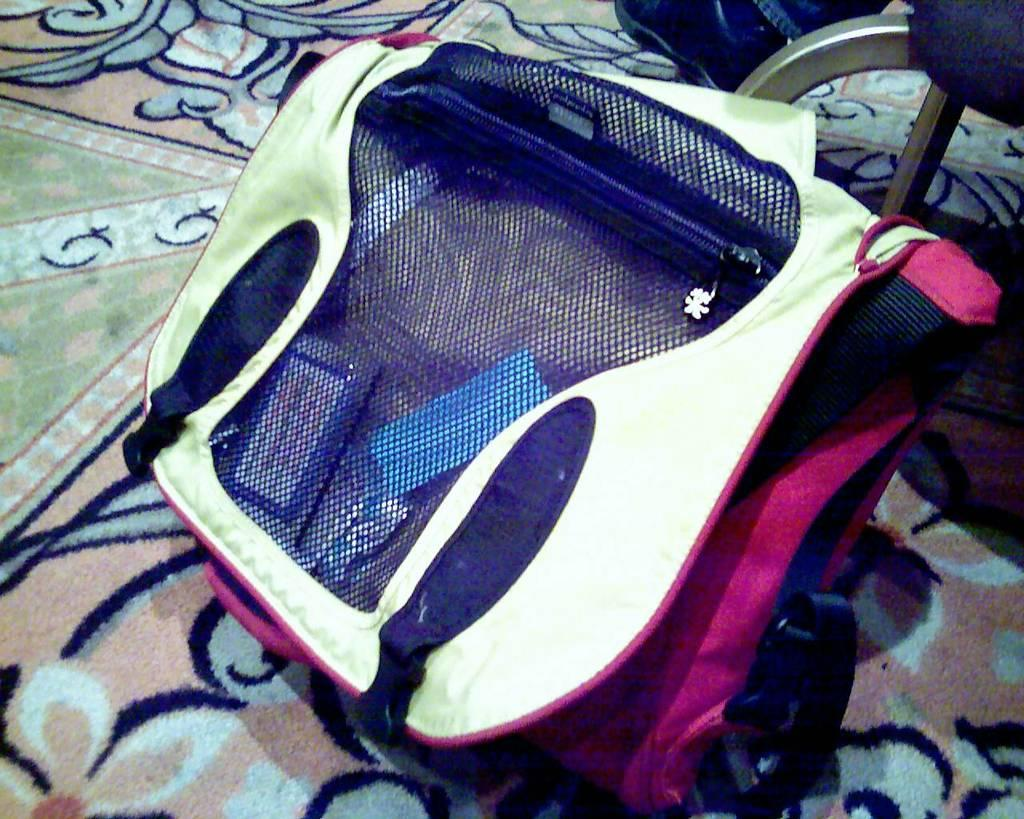Luggage-and-bags: (126, 0, 1023, 818)
